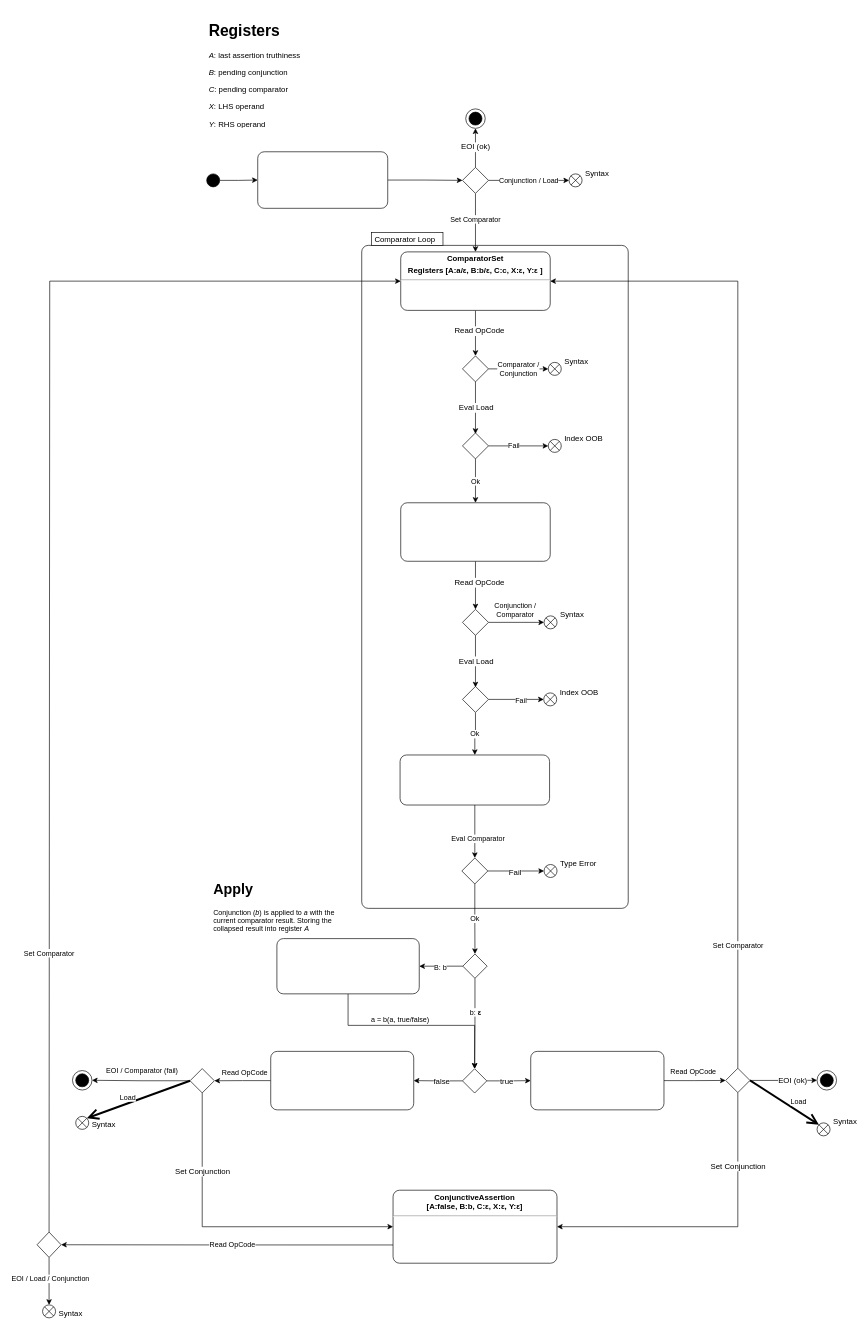
This 868x1329 diagram has some shape labels left out. Each missing label, with the centre of its shape:
AssertionFalse Registers [A:false, B: ε , C: ε, X: ε, Y: ε ]: the point at 342,1080
AssertionTrue Registers [A:true, B: ε , C: ε, X: ε, Y: ε ]: the point at 597,1080
ComparatoRHSSet Registers [A: a/ε, B:b/ ε, C:c, X: x, Y: y ]: the point at 474,779
ComparatorLHSSet Registers [A:a/ ε, B: b/ε, C:c, X: x, Y: ε ]: the point at 475,531
ConjunctiveAssertionApply Registers [A:a, B:b, C: ε, X: ε, Y: ε ]: the point at 347,966
Initial Registers [A: ε, B: ε, X: ε , Y: ε ]: the point at 322,179
